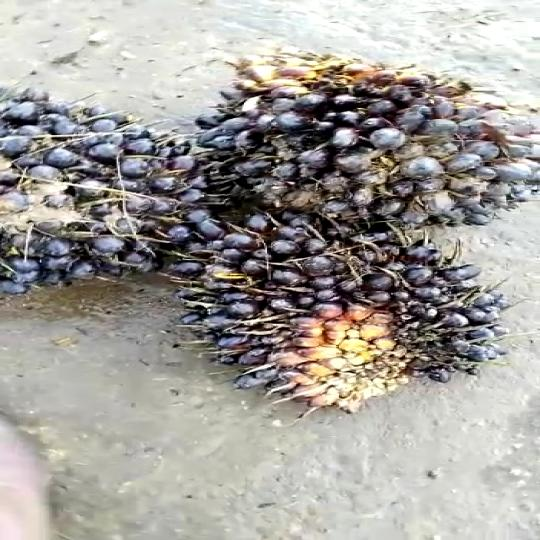mentah: (134, 212, 516, 404), (179, 36, 540, 231), (0, 73, 211, 293)
